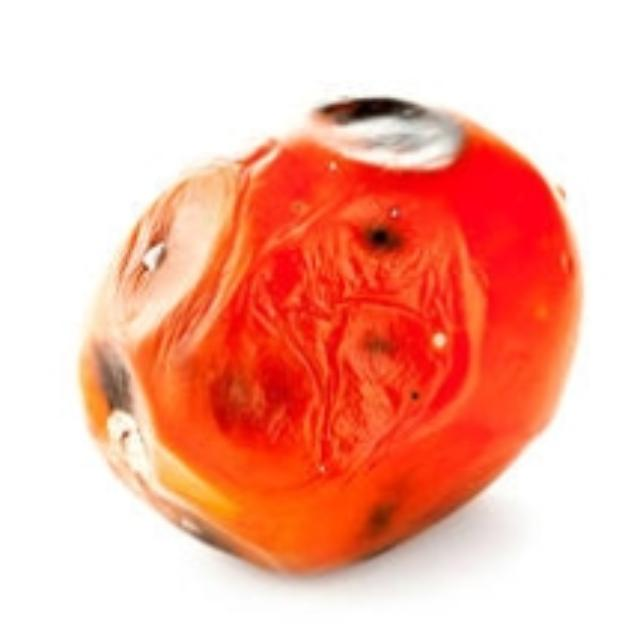defect: (67, 69, 591, 591)
